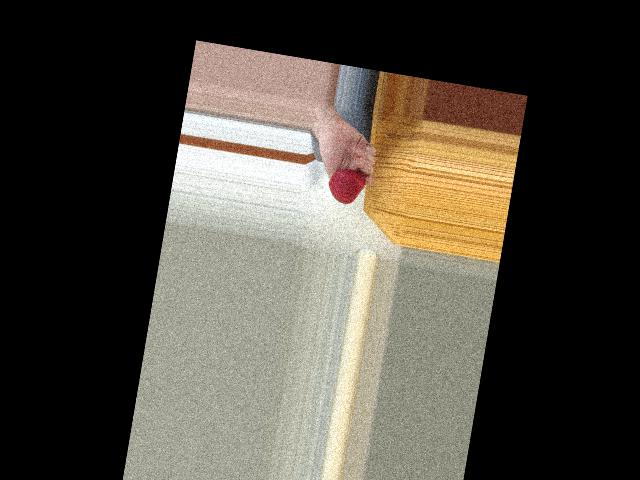apple: (324, 165, 367, 208)
